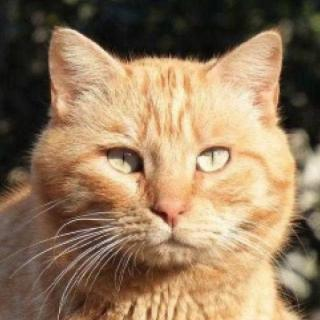cat: (43, 19, 291, 288)
nose: (140, 171, 193, 234)
